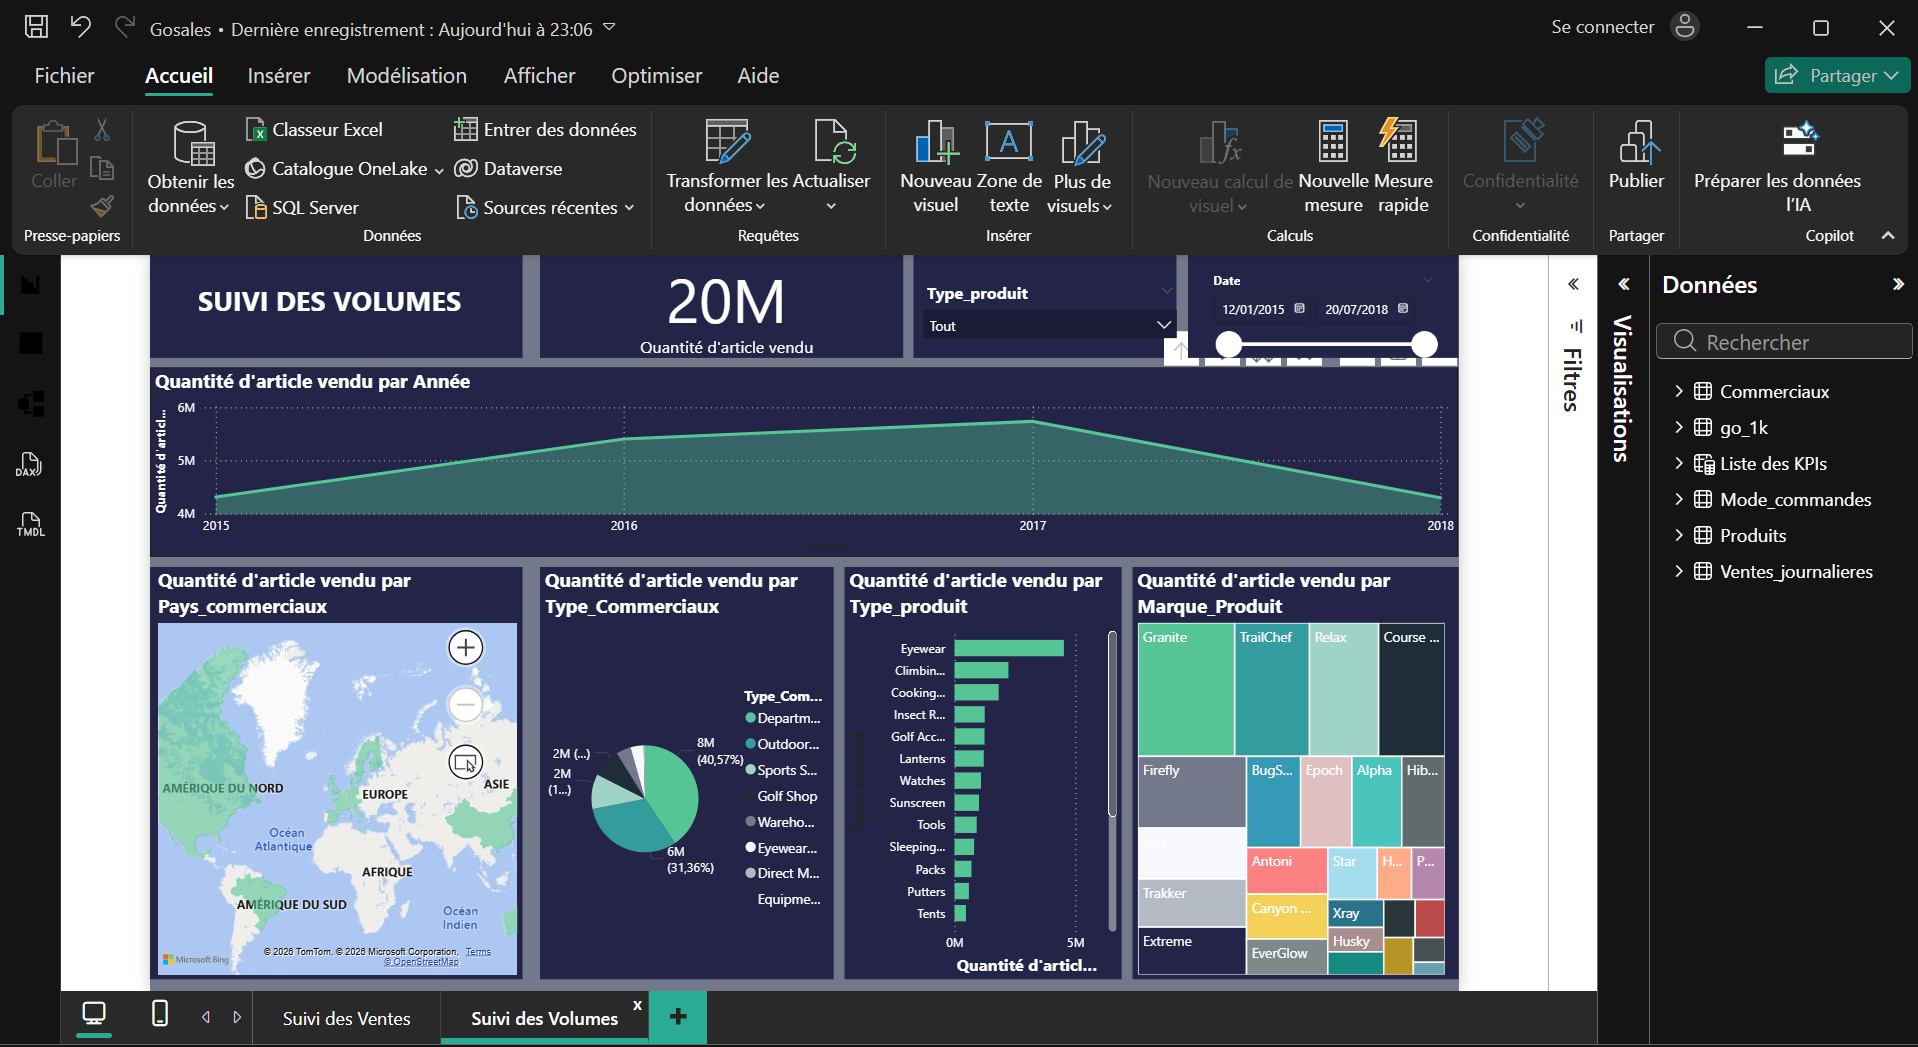

This screenshot's page, from the dashboard's own definition file:
{"tool":"powerbi","page":{"name":"Volumes","canvas":[1280,720],"ordinal":1},"visuals":[{"type":"shape","box":[0,0,364.5,100.9],"z":0},{"type":"shape","box":[746.6,0,257.3,100.9],"z":1000},{"type":"textbox","box":[2.5,20.2,345.5,65.6],"z":2000},{"type":"shape","box":[0,109.7,1280,185.4],"z":3000},{"type":"areaChart","fields":{"Category":["Ventes_journalieres.Date.Variation.Hiérarchie de dates.Année","Ventes_journalieres.Date.Variation.Hiérarchie de dates.Trimestre","Ventes_journalieres.Date.Variation.Hiérarchie de dates.Mois","Ventes_journalieres.Date.Variation.Hiérarchie de dates.Jour"],"Y":["Liste des KPIs.Quantité d'article vendu"]},"box":[0,109.7,1280,185.4],"z":4000},{"type":"shape","box":[0,305.2,364.5,403.6],"z":5000},{"type":"filledMap","fields":{"Category":["Commerciaux.Pays_commerciaux"]},"box":[2.5,305.2,360.7,403.6],"z":6000},{"type":"shape","box":[382.1,305.2,287.5,403.6],"z":7000},{"type":"pieChart","fields":{"Category":["Commerciaux.Type_Commerciaux"],"Y":["Liste des KPIs.Quantité d'article vendu"]},"box":[380.9,305.2,288.8,403.6],"z":8000},{"type":"shape","box":[679.7,305.2,271.1,403.6],"z":9000},{"type":"clusteredBarChart","fields":{"Y":["Liste des KPIs.Quantité d'article vendu"],"Category":["Produits.Type_produit"]},"box":[679.7,305.2,271.1,403.6],"z":10000},{"type":"shape","box":[961,305.2,319.1,403.6],"z":11000},{"type":"shape","box":[380.9,0,355.6,100.9],"z":12000},{"type":"treemap","fields":{"Values":["Liste des KPIs.Quantité d'article vendu"],"Group":["Produits.Marque_Produit"]},"box":[961,305.2,310.2,403.6],"z":13000},{"type":"card","fields":{"Values":["Liste des KPIs.Quantité d'article vendu"]},"box":[392.2,0,344.3,100.9],"z":14000},{"type":"shape","box":[1015.2,0,264.8,100.9],"z":15000},{"type":"slicer","fields":{"Values":["Ventes_journalieres.Date"]},"box":[1027.8,11.4,240.9,98.4],"z":16000},{"type":"slicer","fields":{"Values":["Produits.Type_produit"]},"box":[746.6,20.2,267.4,100.9],"z":17000}]}

Visuals, with their boxes on the page's 1280x720 design canvas (x1, y1, x2, y2). These are canvas units, not pixel positions in the 1918x1047 screenshot, which may show the page scaled, cropped or inside an application window:
shape: <box>0,0,364,101</box>
shape: <box>747,0,1004,101</box>
textbox: <box>2,20,348,86</box>
shape: <box>0,110,1280,295</box>
areaChart - Ventes_journalieres.Date.Variation.Hiérarchie de dates.Année x Ventes_journalieres.Date.Variation.Hiérarchie de dates.Trimestre: <box>0,110,1280,295</box>
shape: <box>0,305,364,709</box>
filledMap - Commerciaux.Pays_commerciaux: <box>2,305,363,709</box>
shape: <box>382,305,670,709</box>
pieChart - Commerciaux.Type_Commerciaux x Liste des KPIs.Quantité d'article vendu: <box>381,305,670,709</box>
shape: <box>680,305,951,709</box>
clusteredBarChart - Liste des KPIs.Quantité d'article vendu x Produits.Type_produit: <box>680,305,951,709</box>
shape: <box>961,305,1280,709</box>
shape: <box>381,0,736,101</box>
treemap - Liste des KPIs.Quantité d'article vendu x Produits.Marque_Produit: <box>961,305,1271,709</box>
card - Liste des KPIs.Quantité d'article vendu: <box>392,0,736,101</box>
shape: <box>1015,0,1280,101</box>
slicer - Ventes_journalieres.Date: <box>1028,11,1269,110</box>
slicer - Produits.Type_produit: <box>747,20,1014,121</box>
